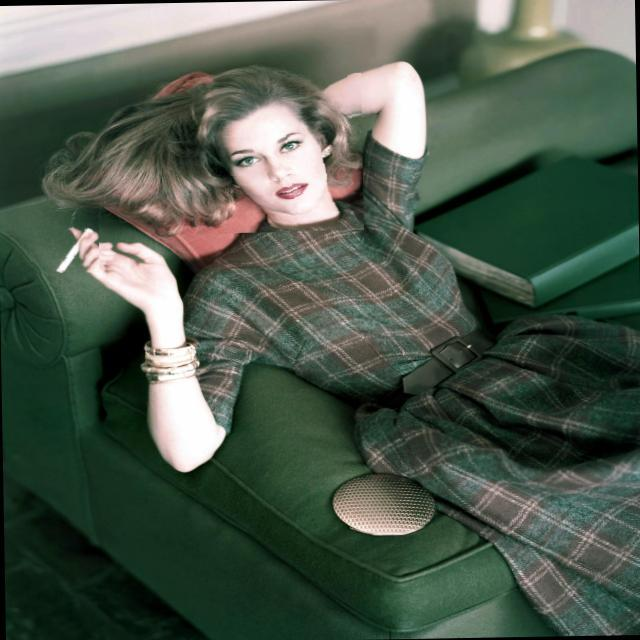cigarette: (29, 212, 99, 274)
